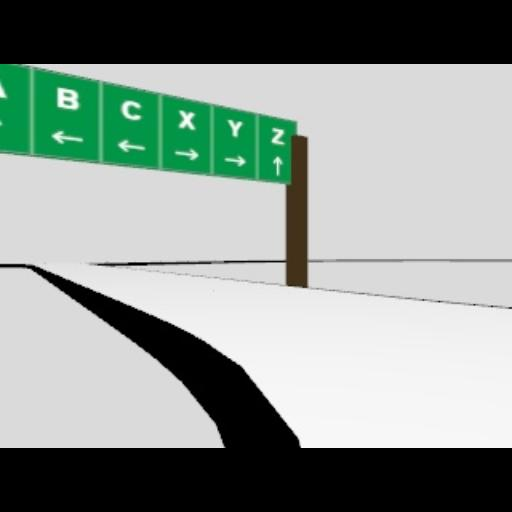B: (56, 87, 78, 109)
C: (120, 100, 142, 120)
Left: (50, 130, 84, 146), (115, 139, 145, 153)
Right: (172, 146, 200, 162), (222, 154, 246, 166)
Straight: (272, 156, 284, 176)
X: (178, 110, 196, 130)
Y: (226, 118, 242, 136)
Z: (271, 126, 285, 144)
